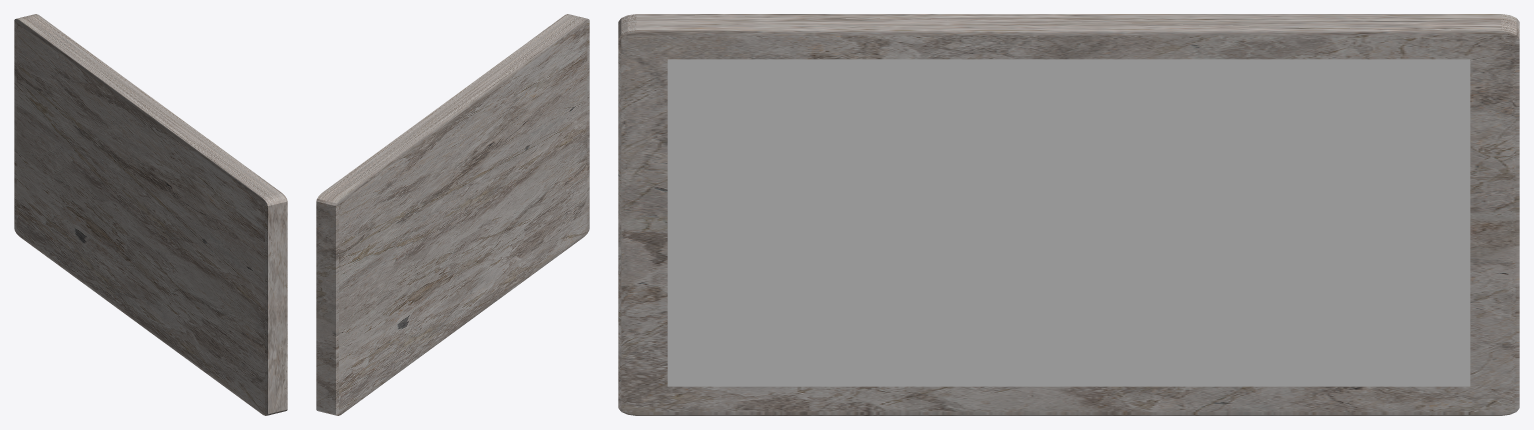
3 renders of one model, left to right at view 1: azimuth 30°, elevation 25°; view 2: azimuth 150°, elevation 25°; view 3: azimuth 270°, elevation 25°, orthographic. The views are drawn at different scales.
Parts seen in each view (by area): view 1: ex-voto-block; view 2: ex-voto-block; view 3: ex-voto-message, ex-voto-block.
Boxes of the visible parts, x1,y1,x2,y2 form: ex-voto-block: (14,14,287,415); ex-voto-block: (316,14,589,415); ex-voto-message: (667,59,1470,386); ex-voto-block: (618,14,1519,415).
Size of the model in its own units: 0.038 by 0.3786 by 0.8035.
1 material, 1 textured.
